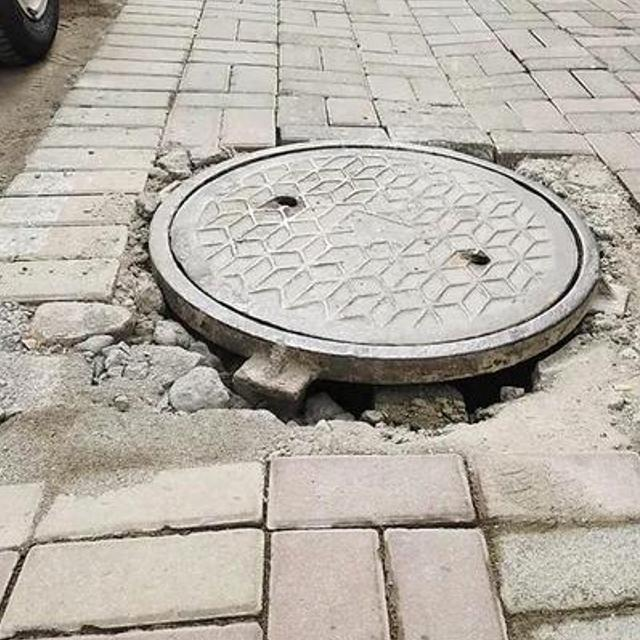circle: (65, 120, 640, 496)
